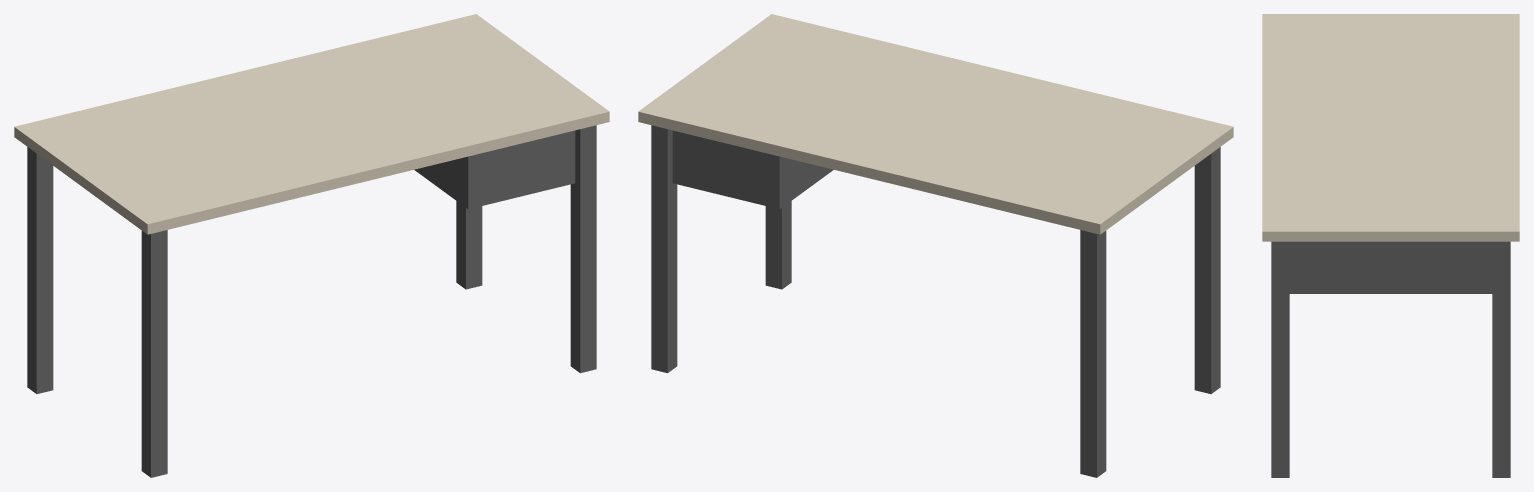
File: Desk_Office.fbx
3 renders of one model, left to right at view 1: azimuth 30°, elevation 25°; view 2: azimuth 150°, elevation 25°; view 3: azimuth 270°, elevation 25°, orthographic. The views are drawn at different scales.
Parts seen in each view (by area): view 1: Desk_Office; view 2: Desk_Office; view 3: Desk_Office.
Boxes of the visible parts, x1,y1,x2,y2 form: Desk_Office: (14,14,609,477); Desk_Office: (638,14,1233,477); Desk_Office: (1262,14,1519,477).
Size of the model in its own units: 1.4 by 0.75 by 0.7.
